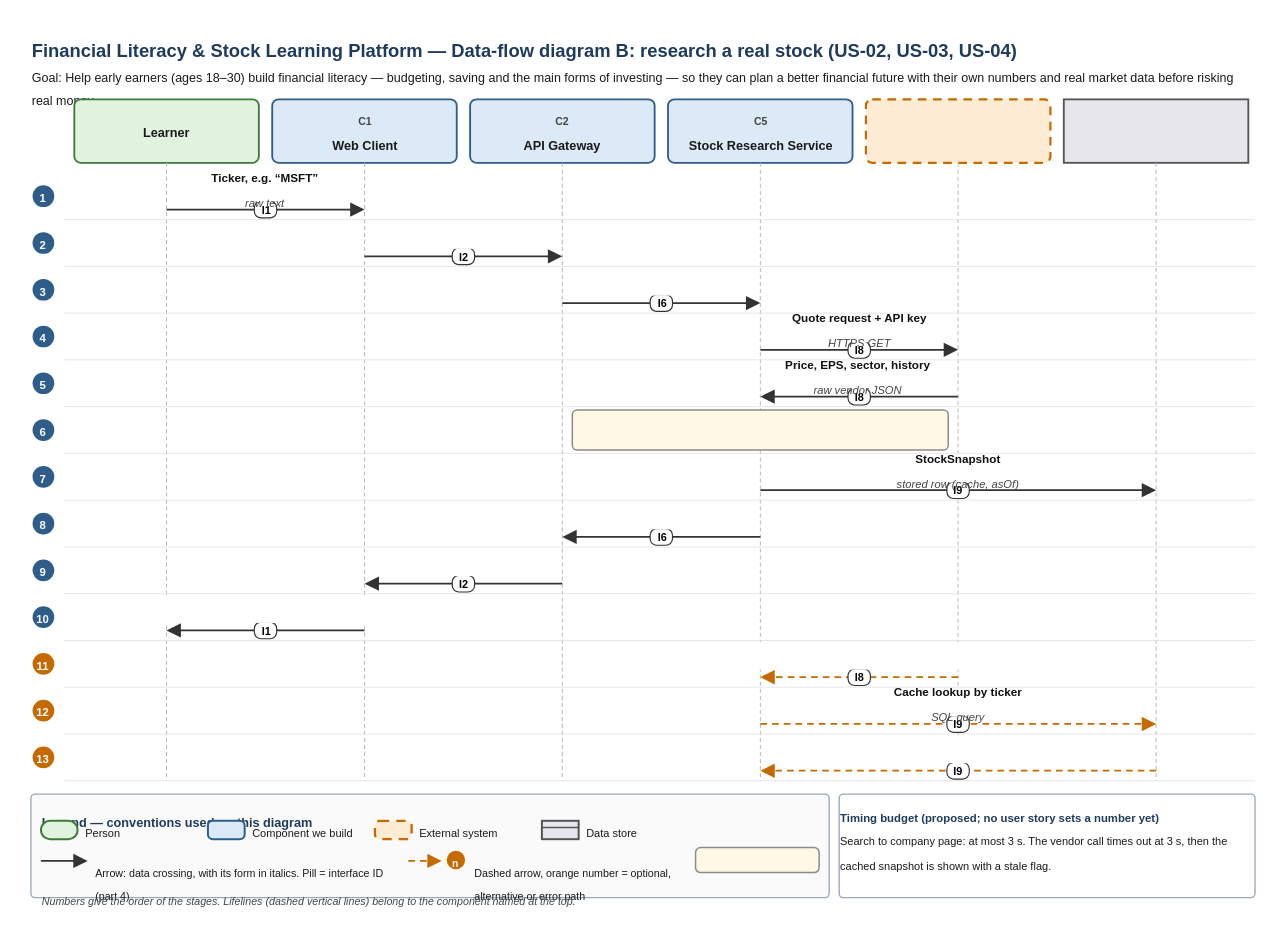
This 1286x939 diagram has some shape labels left out. Each missing label, with the centre of its shape:
"C6 App Database" goes at point 1155,130.
"Company info, chart, P/E, red flags rendered view" goes at point 264,608.
"Compute P/E, industry average, red-flag checks StockSnapshot" goes at point 759,429.
"E2 Stock Data API" goes at point 957,130.
"Last snapshot, stale = true stored row; steps 8–10 then continue" goes at point 957,748.
"Snapshot request + ID token HTTP GET" goes at point 462,234.
"step inside one component" goes at point 756,859.
"StockSnapshot JSON" goes at point 462,561.
"StockSnapshot {…, flags, stale} JSON" goes at point 660,515.
"Ticker (upper-cased, checked) validated query" goes at point 660,281.
"Timeout or HTTP 429 error response (vendor failed at step 5)" goes at point 858,655.
